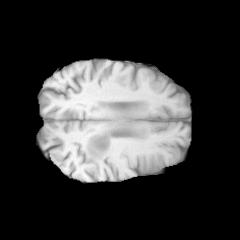glioma: (85, 135, 111, 159)
